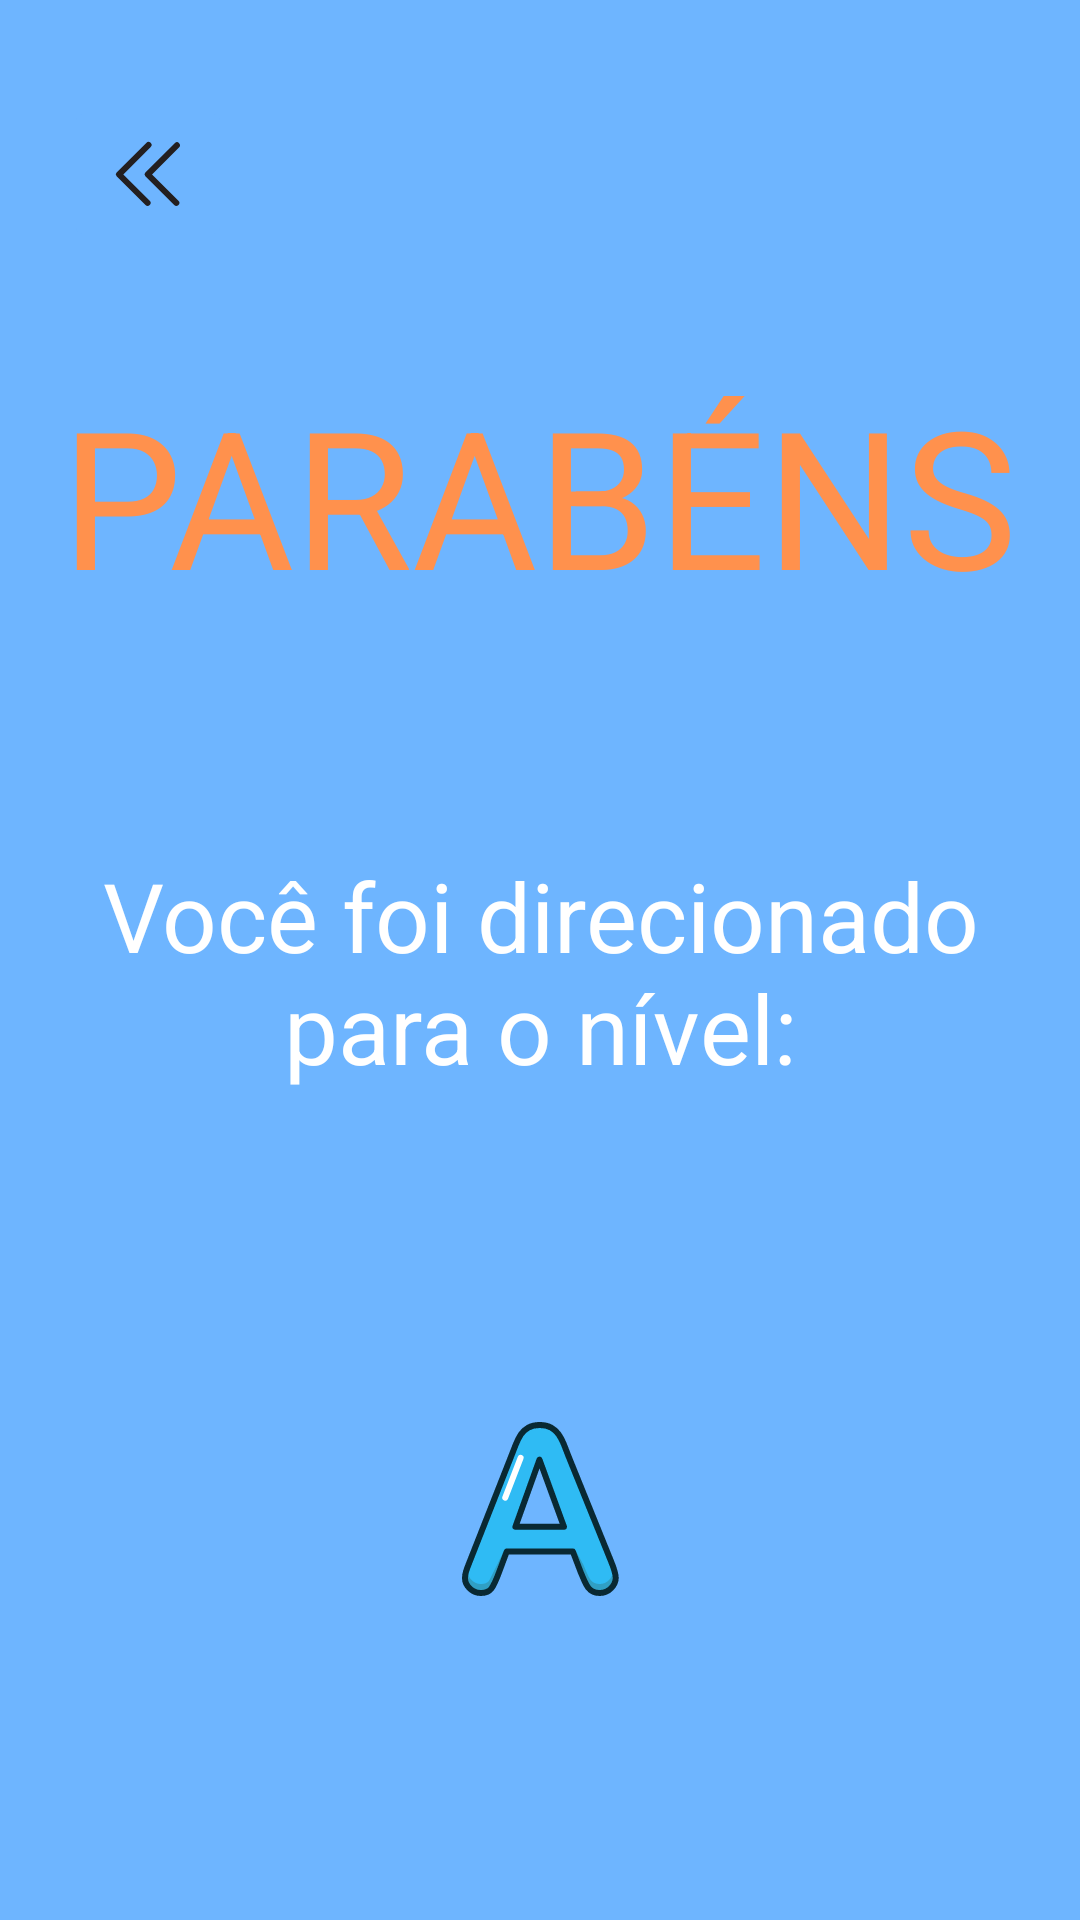

Point at icon controls on the screen. Image size 1080px x 1920px, points as (x,y).
back: (147,173)
